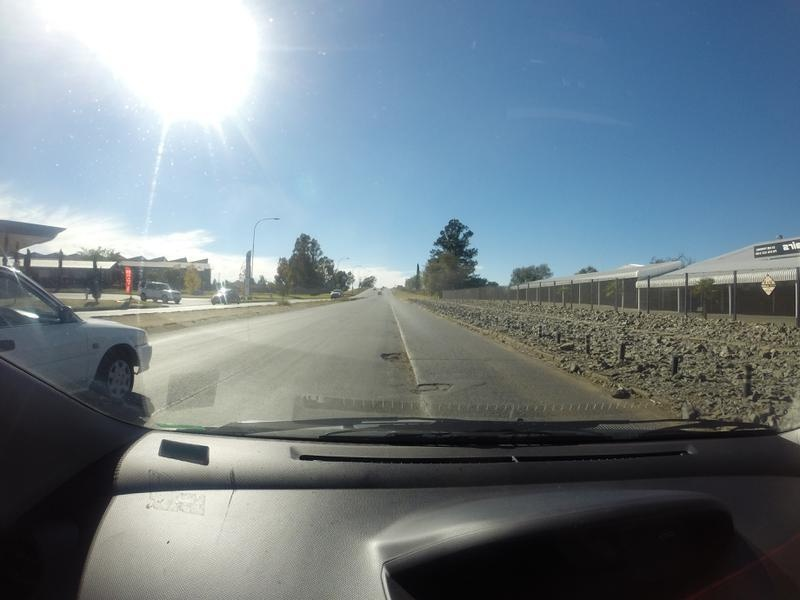pothole: (407, 380, 446, 394), (379, 350, 405, 364)
